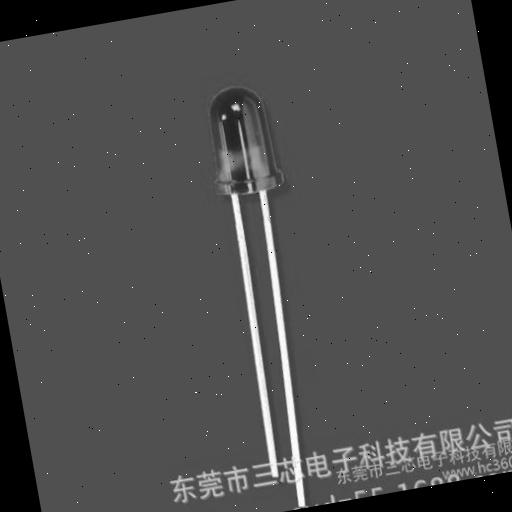LED: (135, 35, 415, 375)
